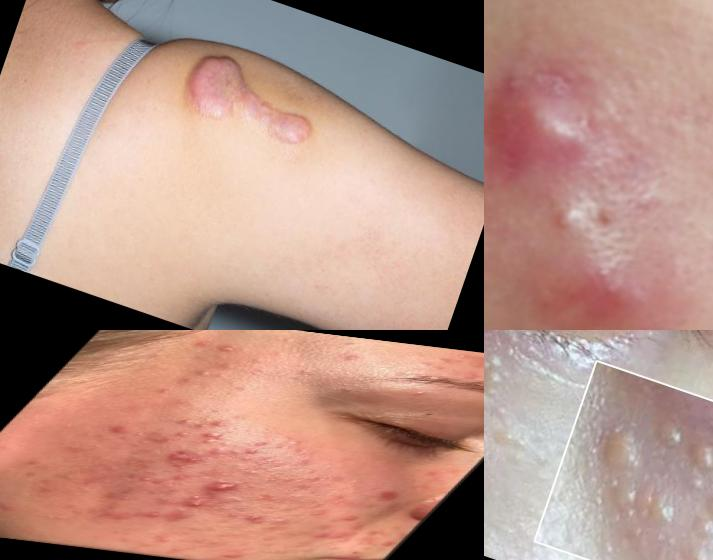cystic: (485, 51, 610, 192), (550, 236, 666, 331)
keloid: (169, 45, 330, 166)
papular: (150, 504, 209, 525), (363, 488, 410, 504), (235, 511, 281, 527), (320, 530, 358, 545), (95, 424, 137, 437), (148, 433, 188, 446), (299, 530, 335, 542), (128, 474, 164, 485), (333, 513, 366, 524), (372, 540, 404, 551), (138, 510, 168, 521), (216, 551, 249, 560), (167, 472, 195, 482)
purulent: (537, 195, 590, 246), (200, 340, 254, 357), (193, 430, 239, 448), (178, 498, 221, 513), (179, 492, 213, 503), (237, 447, 268, 458), (245, 440, 277, 450), (206, 419, 235, 428), (174, 418, 198, 427), (190, 423, 215, 431), (170, 431, 194, 439)
sebo-crystan-conglo: (145, 447, 211, 467), (193, 478, 253, 496)
syringoma: (589, 397, 713, 509), (590, 470, 684, 541), (662, 508, 713, 560), (485, 335, 516, 401)
whitehead: (181, 359, 249, 383), (410, 353, 466, 375), (252, 512, 301, 536), (401, 387, 451, 405), (329, 348, 373, 366), (233, 466, 272, 479), (200, 447, 237, 459), (273, 475, 306, 486), (257, 548, 294, 557), (259, 474, 285, 485), (293, 546, 321, 556), (151, 535, 180, 544), (257, 535, 279, 543), (184, 526, 205, 533)
